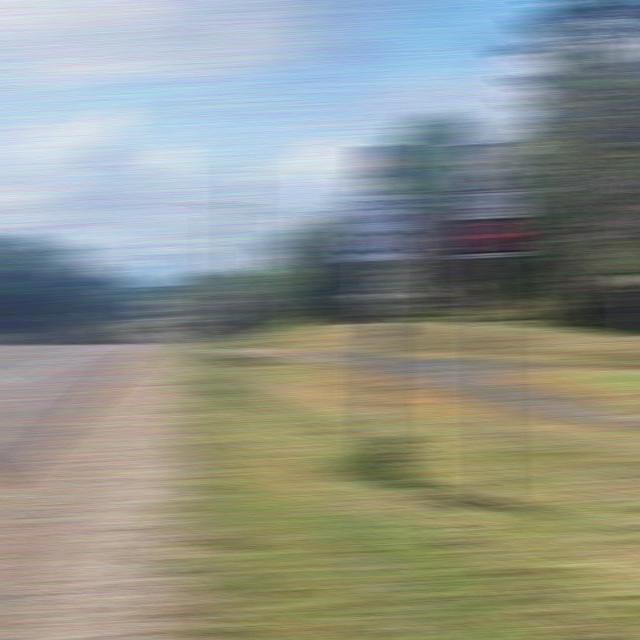speedLimit30: (340, 189, 419, 264)
